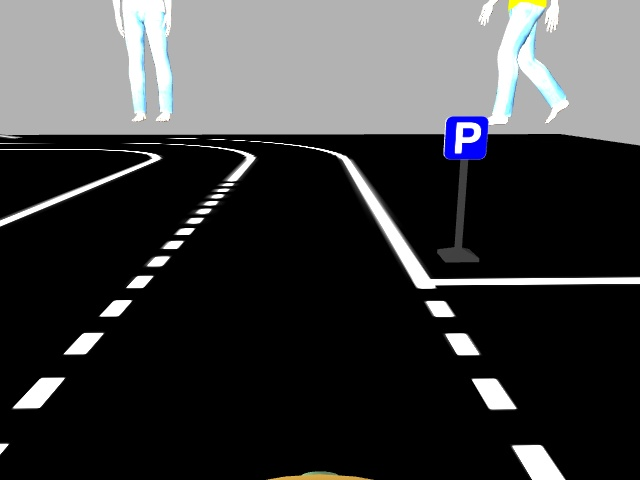Parking: (442, 116, 488, 162)
